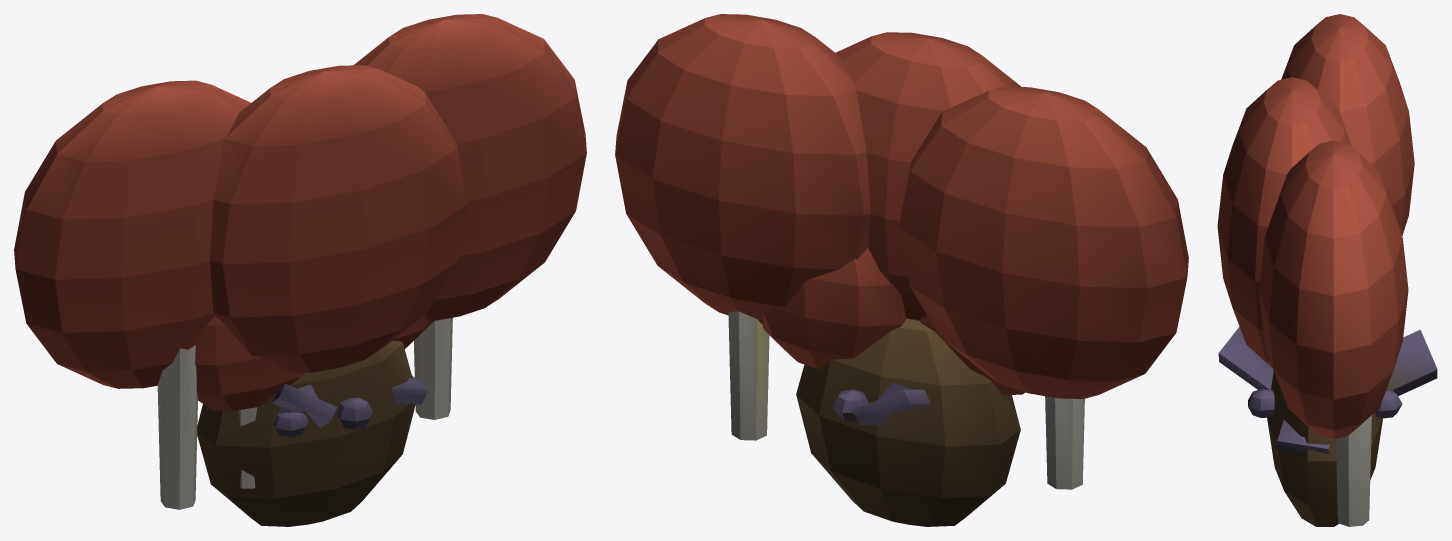
Rendered from crop_deathcap.glb.
3 renders of one model, left to right at view 1: azimuth 30°, elevation 25°; view 2: azimuth 150°, elevation 25°; view 3: azimuth 270°, elevation 25°, orthographic. The views are drawn at different scales.
Visible parts, largest first — view 1: cap.001, cap, cap.002, seed_mound, mstalk, cap2, mstalk.002, sprout_leaf.002, seed.002, sprout_leaf, seed.001; view 2: cap, cap.002, seed_mound, cap.001, cap2.001, mstalk.002, mstalk, sprout_leaf.001, seed.004; view 3: cap.002, cap.001, cap, seed_mound, mstalk.002, sprout_leaf.001, sprout_leaf.002, sprout_leaf, seed.002, seed.004.
Boxes of the visible parts, box(x1,y1,x2,y2) form: cap.001: box(210, 65, 467, 373); cap: box(14, 80, 250, 388); cap.002: box(354, 14, 586, 321); seed_mound: box(197, 341, 415, 526); mstalk: box(157, 345, 197, 509); cap2: box(195, 316, 303, 410); mstalk.002: box(414, 317, 452, 419); sprout_leaf.002: box(272, 383, 337, 427); seed.002: box(337, 398, 372, 429); sprout_leaf: box(391, 375, 428, 404); seed.001: box(273, 412, 308, 437); cap: box(898, 86, 1188, 398); cap.002: box(615, 14, 870, 323); seed_mound: box(796, 318, 1020, 526); cap.001: box(835, 32, 1021, 320); cap2.001: box(762, 248, 906, 369); mstalk.002: box(728, 311, 769, 440); mstalk: box(1045, 396, 1084, 489); sprout_leaf.001: box(852, 382, 930, 424); seed.004: box(832, 389, 868, 421); cap.002: box(1259, 140, 1408, 438); cap.001: box(1217, 77, 1351, 367); cap: box(1281, 14, 1414, 235); seed_mound: box(1267, 371, 1382, 526); mstalk.002: box(1336, 415, 1371, 526); sprout_leaf.001: box(1386, 329, 1437, 396); sprout_leaf.002: box(1218, 326, 1273, 389); sprout_leaf: box(1277, 419, 1329, 454); seed.002: box(1248, 389, 1274, 417); seed.004: box(1375, 390, 1402, 418).
Bounding box in the file's own units: 0.8 × 0.63 × 0.2942.
